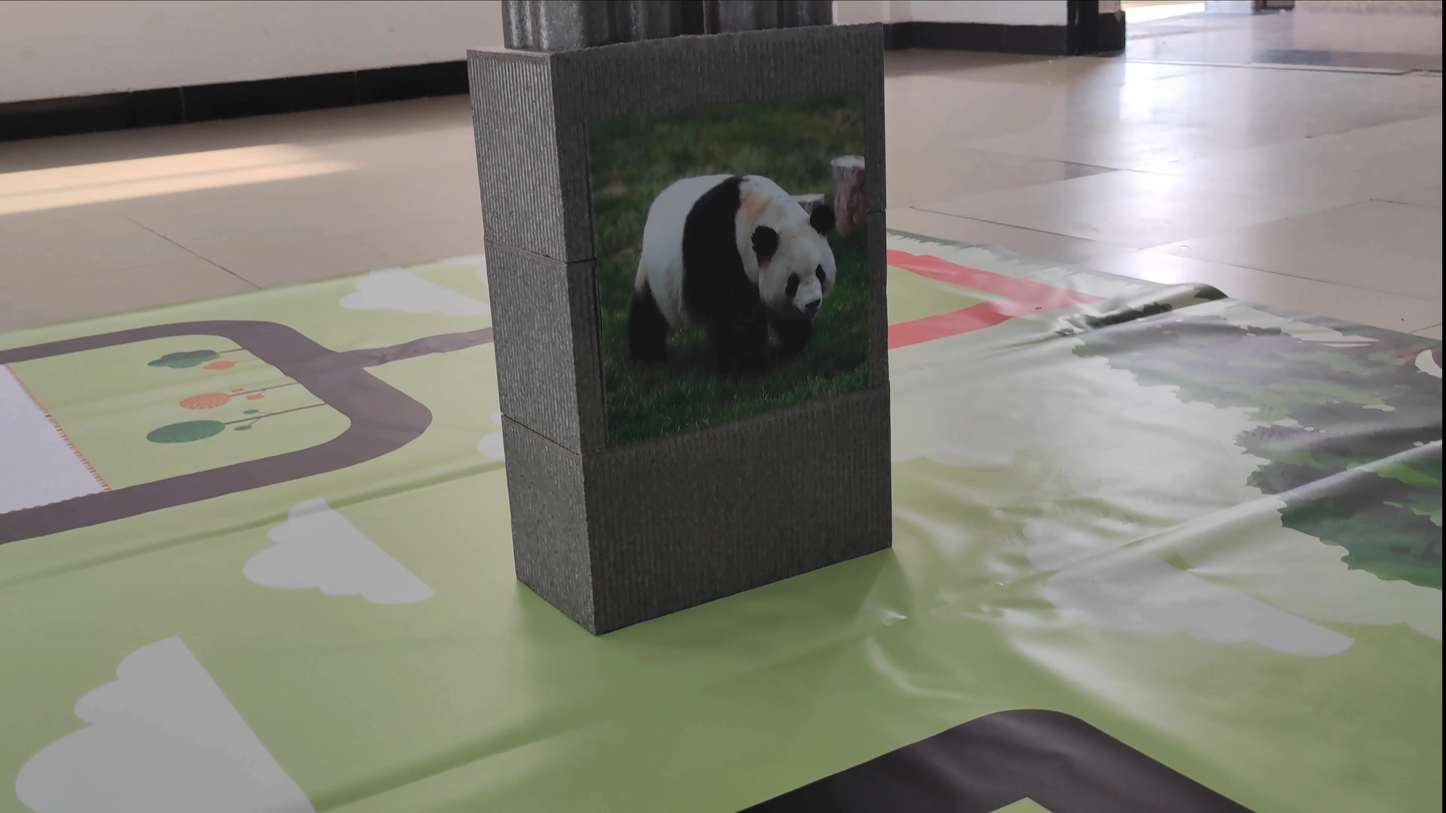panda: (596, 144, 866, 388)
